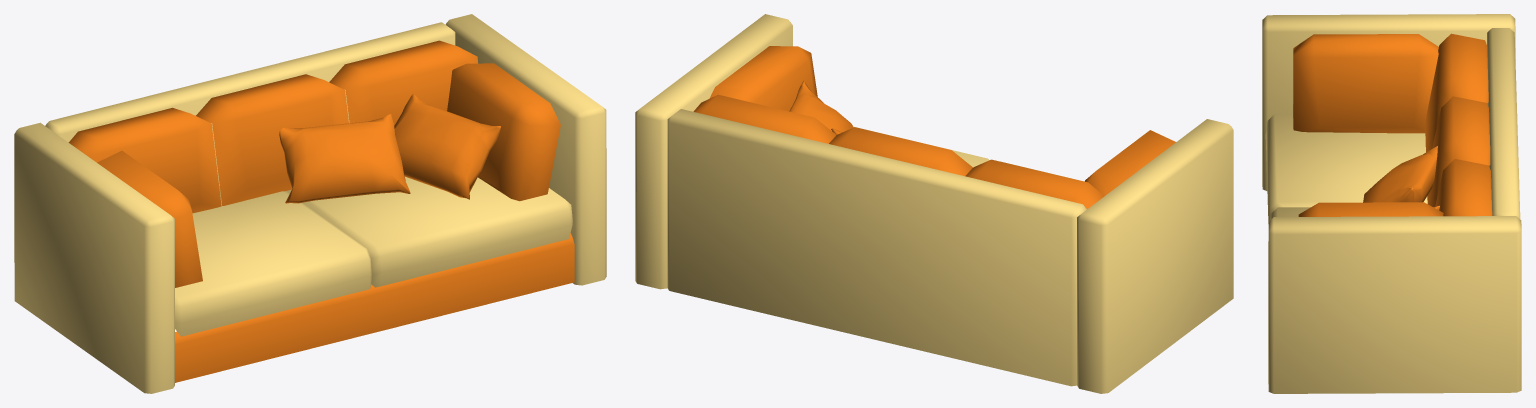
The model's file is Sofa3.fbx.
The picture shows the model from 3 angles, left to right: view 1: azimuth 30°, elevation 25°; view 2: azimuth 150°, elevation 25°; view 3: azimuth 270°, elevation 25°; orthographic projection. The views are drawn at different scales.
Visible parts, largest first — view 1: Sofa3; view 2: Sofa3; view 3: Sofa3.
Part boxes in pixels (<box>): Sofa3: <box>14,14,606,393</box>; Sofa3: <box>635,14,1233,393</box>; Sofa3: <box>1262,14,1521,393</box>.
Bounding box in the file's own units: 81.22 × 28.82 × 40.77.
